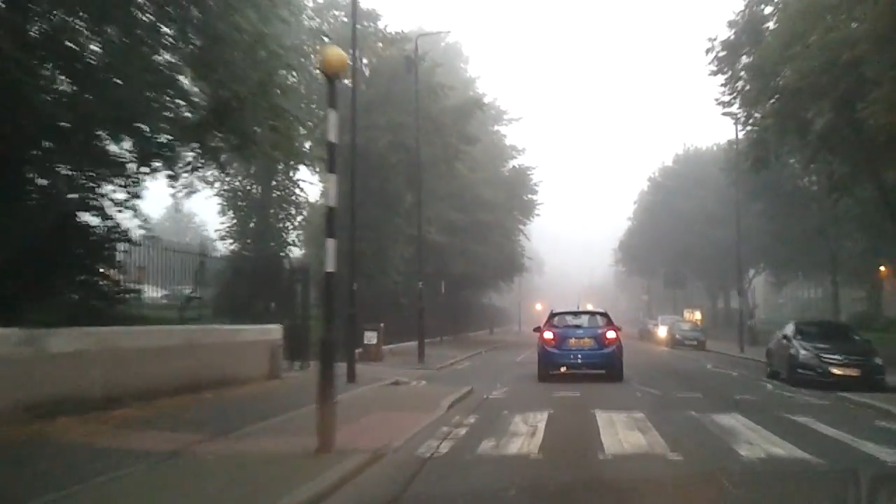car: (764, 317, 888, 389), (531, 307, 626, 382), (664, 318, 707, 348), (652, 314, 688, 342), (637, 318, 668, 341)
